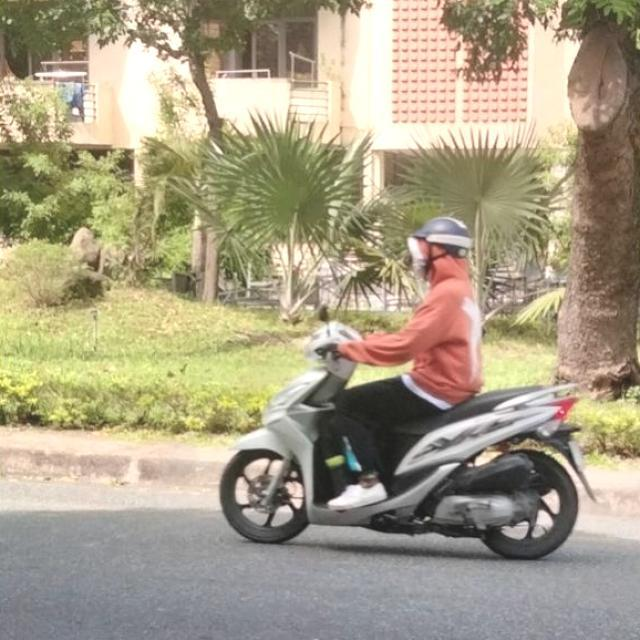Helmet: (404, 216, 474, 286)
